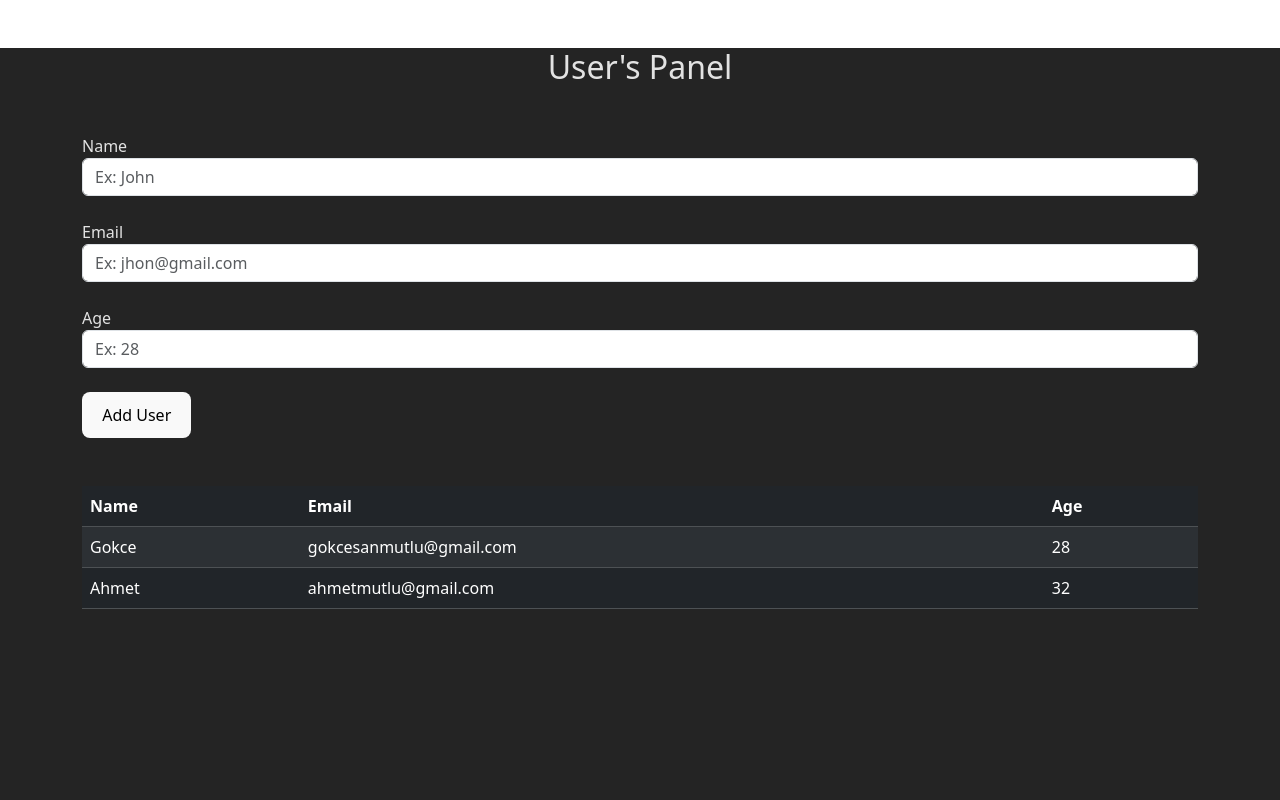
Test: Uygulama doğru çalışıyor.
The image size is (1280, 800).
1- fill the inputs
Type "gokce" into the field labelled "Name" at (640, 177), box 82,158 -> 1198,196
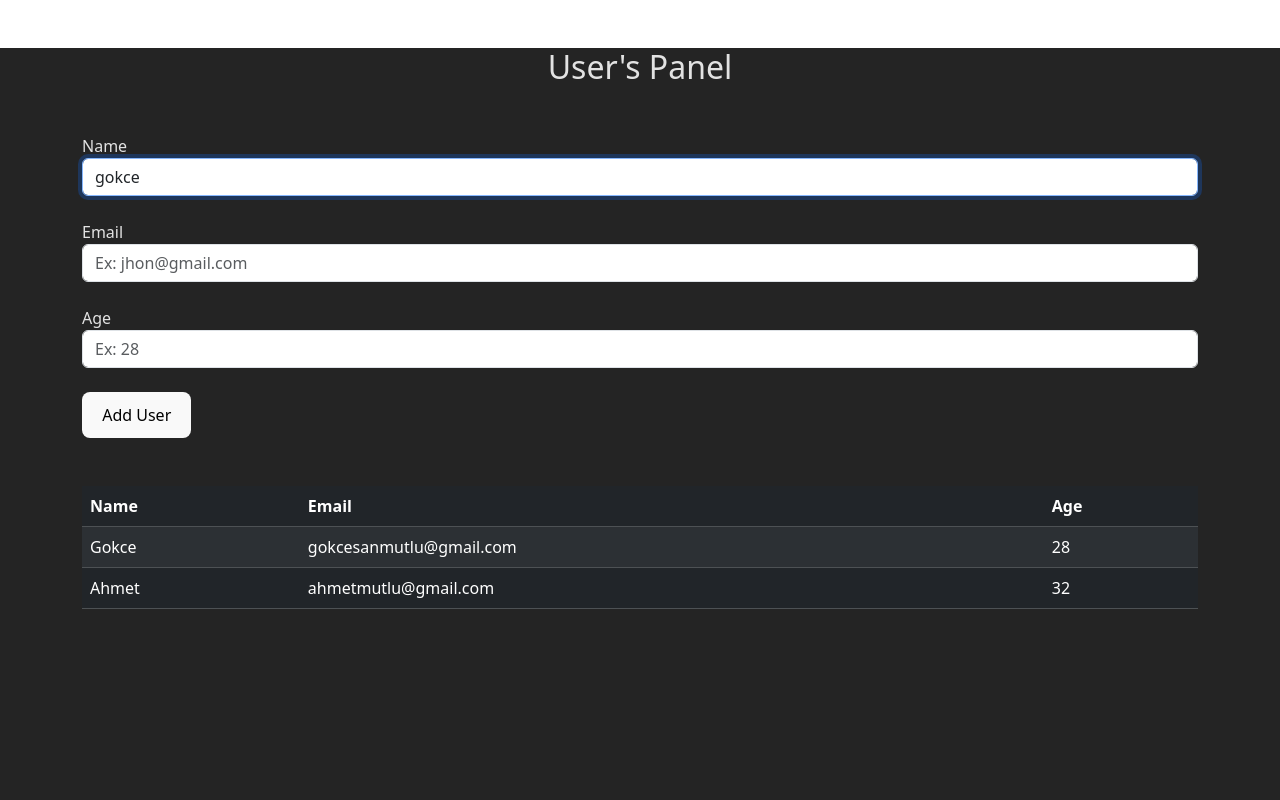
Type "gokce@gmail.com" into the field labelled "Email" at (640, 263), box 82,244 -> 1198,282
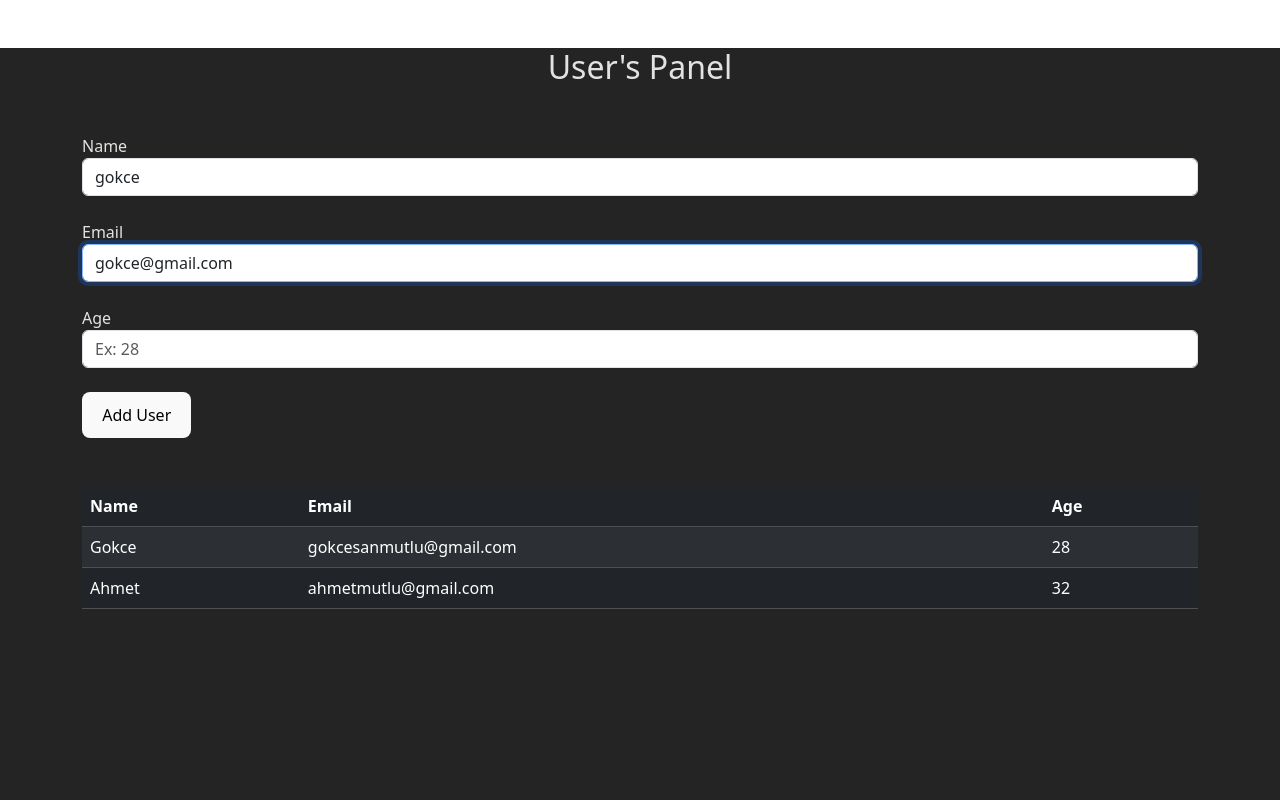
Type "26" into the number field labelled "Age" at (640, 349), box 82,330 -> 1198,368
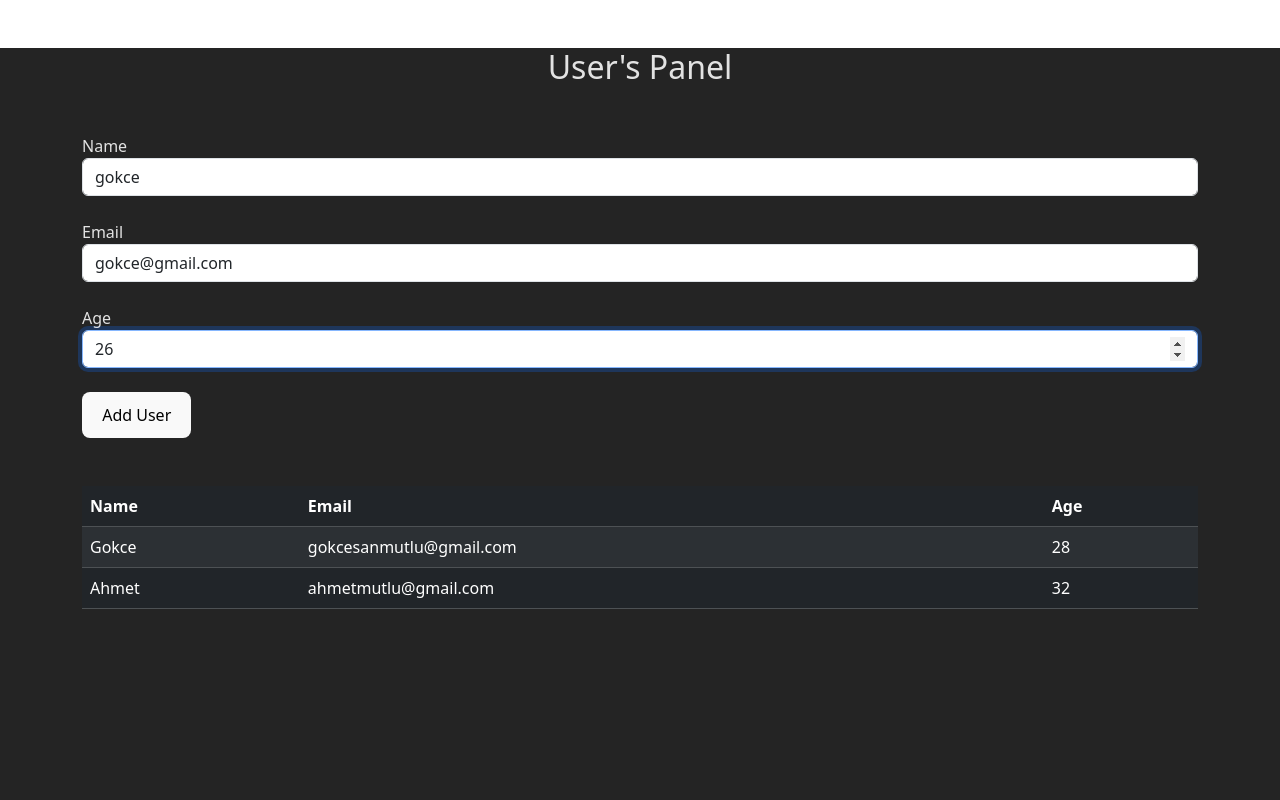
2- Click, addUser
Click the button "Add User" at (137, 415), box 82,392 -> 191,438
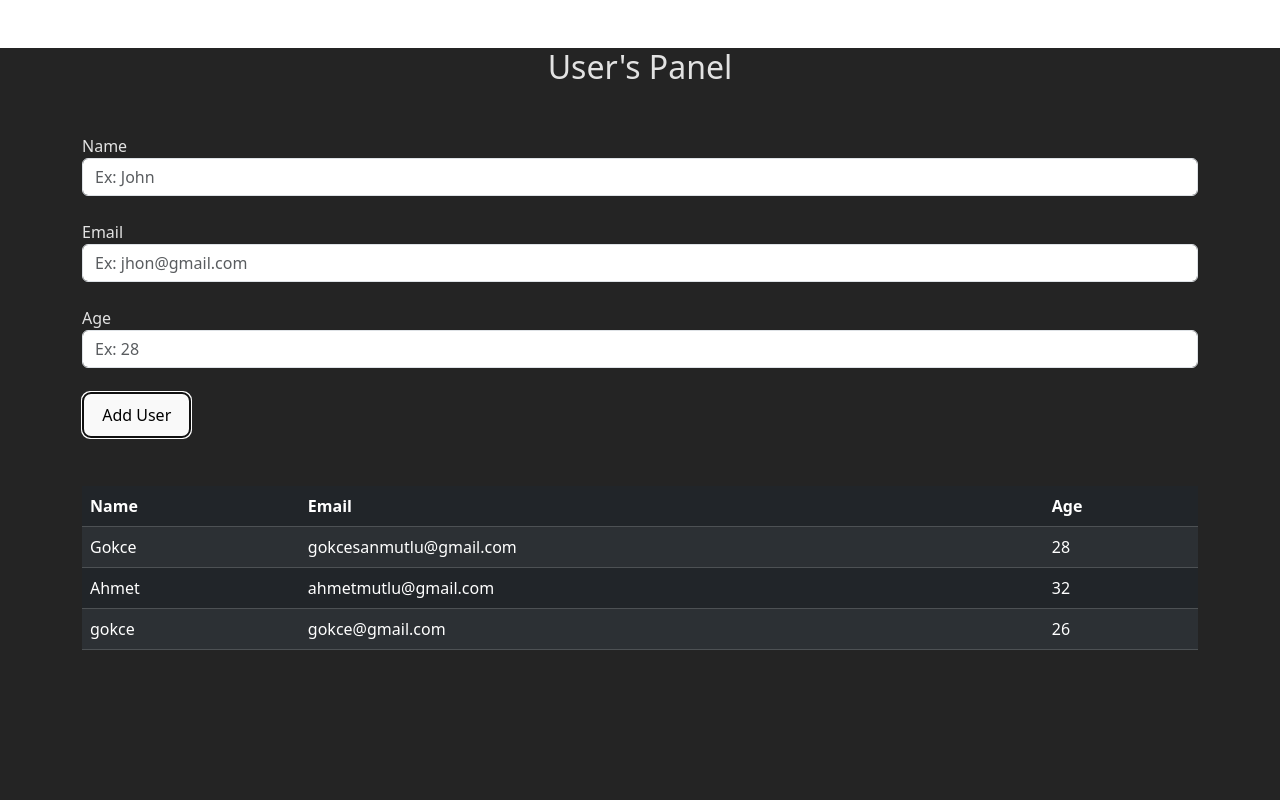
expect the cell "gokce" is shown: met, box 82,608 -> 300,649
expect the cell "gokce@gmail.com" is shown: met, box 300,608 -> 1044,649
expect the cell "26" is shown: met, box 1044,608 -> 1198,649
